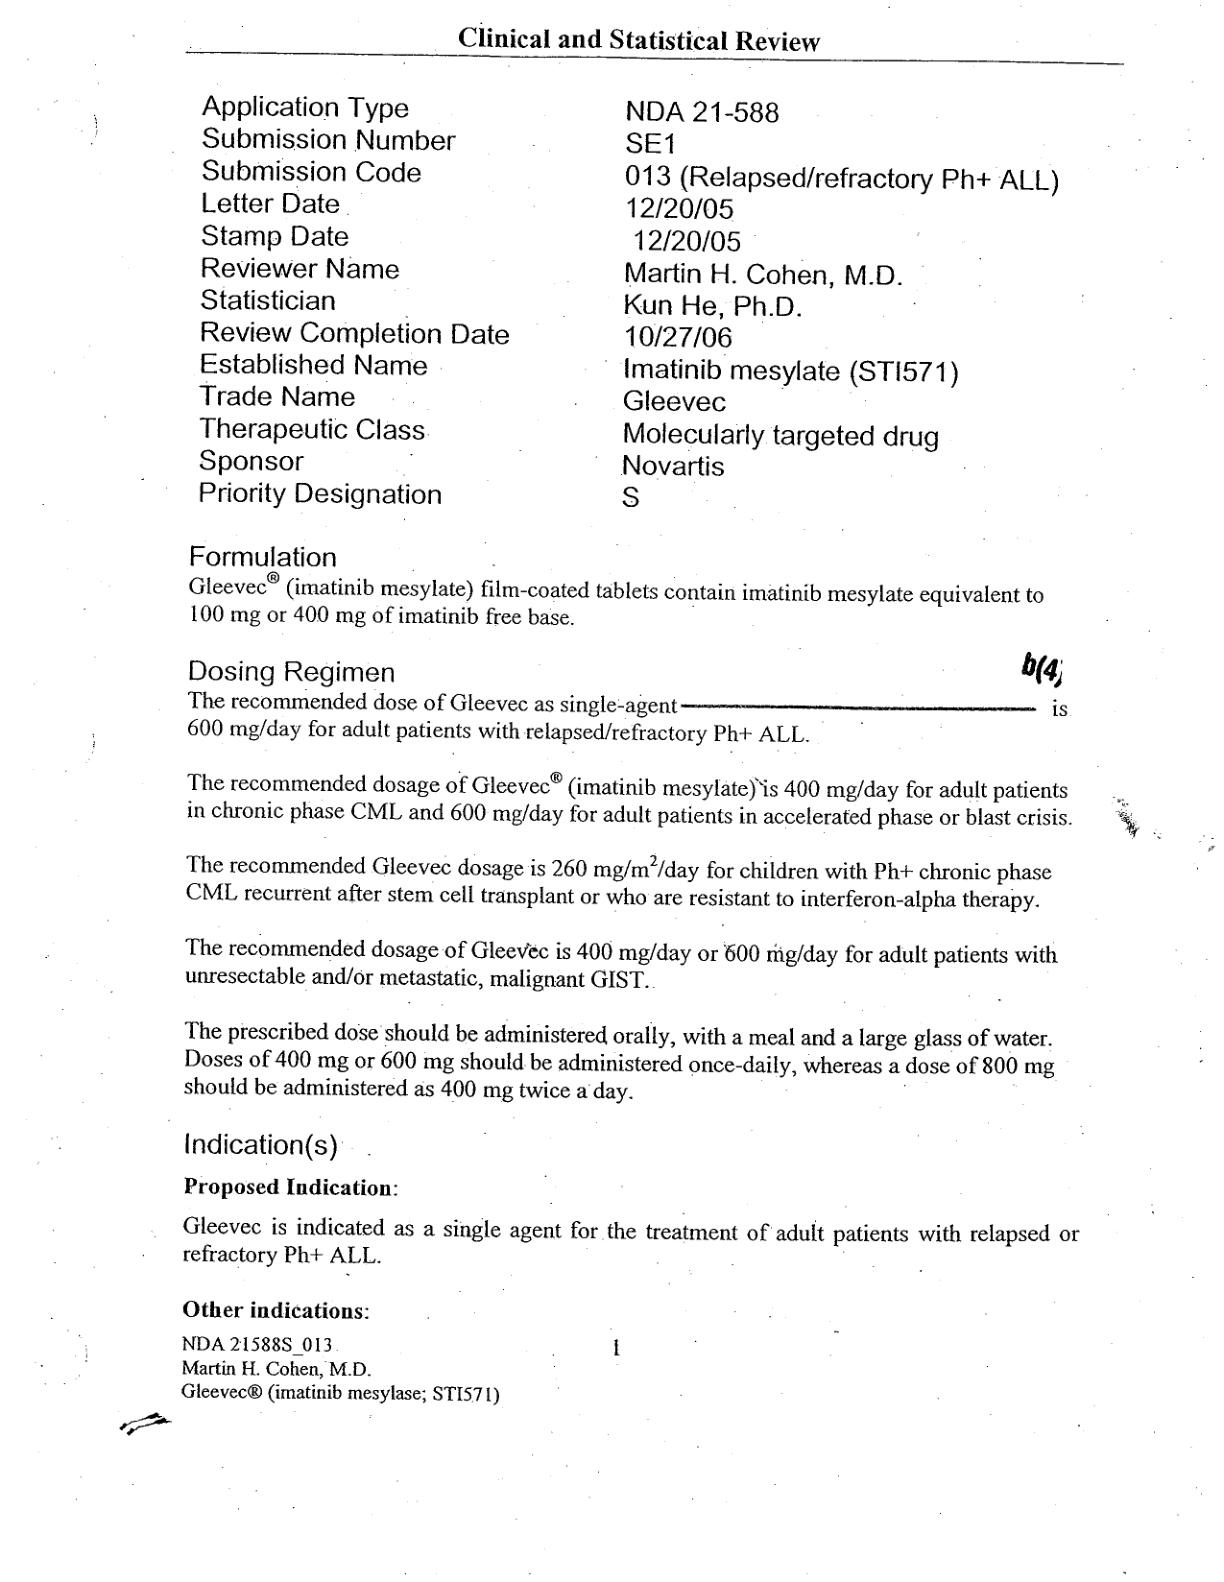nolines: (195, 87, 1063, 514)
